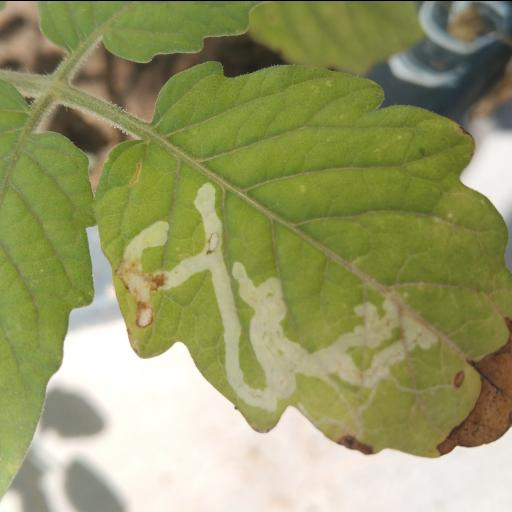Leaf Miner: (90, 59, 512, 459)
